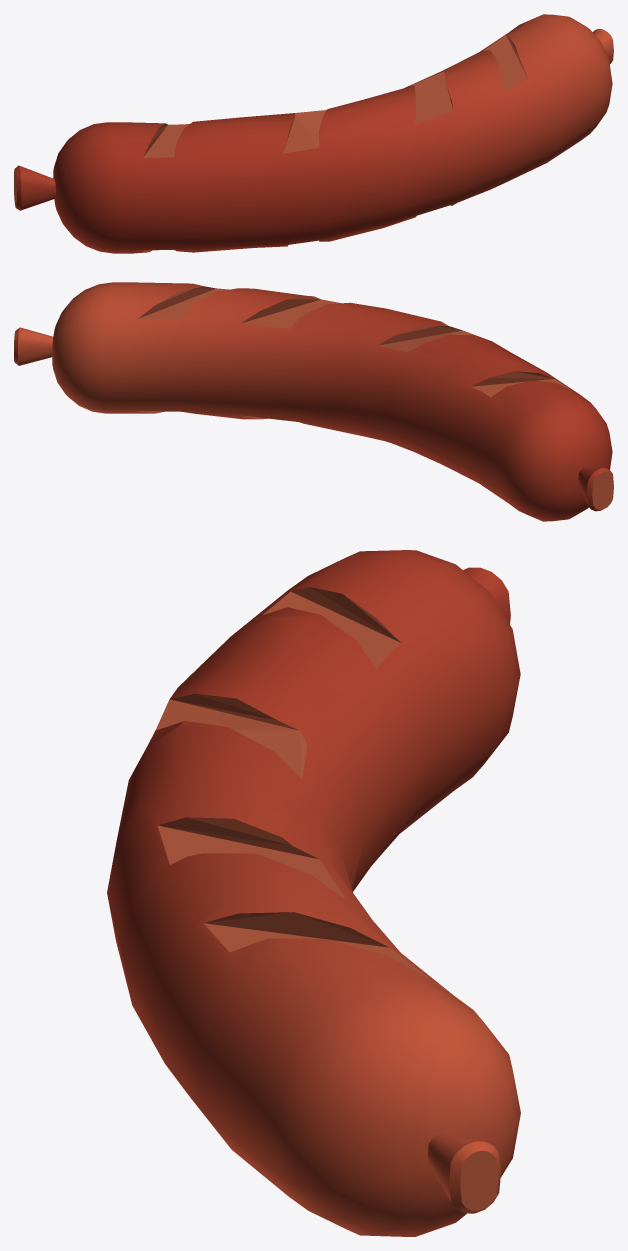
Rendered from Sausage.fbx.
3 renders of one model, top to bottom at view 1: azimuth 30°, elevation 25°; view 2: azimuth 150°, elevation 25°; view 3: azimuth 270°, elevation 25°, orthographic. The views are drawn at different scales.
Visible parts, largest first — view 1: Sausage; view 2: Sausage; view 3: Sausage.
Boxes of the visible parts, x1,y1,x2,y2 form: Sausage: (14, 14, 613, 253); Sausage: (14, 282, 613, 521); Sausage: (107, 550, 520, 1236).
Size of the model in its own units: 24.2 by 4.76 by 7.27.
